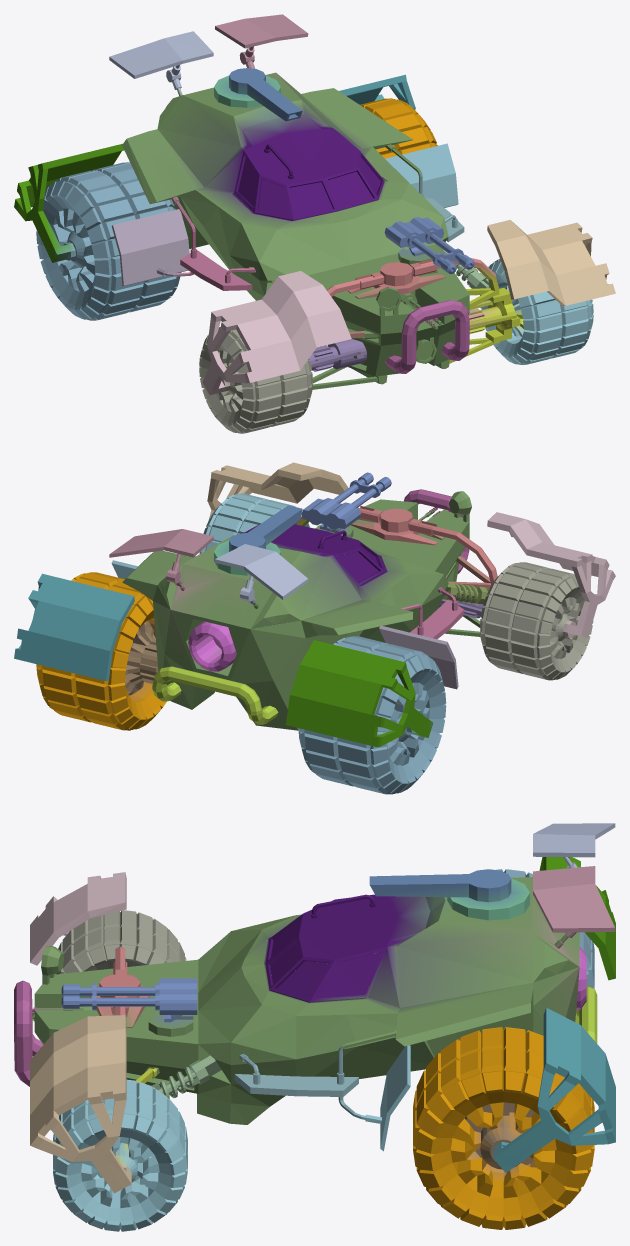
3 views of the same model, one above another, from view 1: azimuth 30°, elevation 25°; view 2: azimuth 150°, elevation 25°; view 3: azimuth 270°, elevation 25° (orthographic). The views are drawn at different scales.
Visible parts, largest first — view 1: world; view 2: world; view 3: world.
Boxes of the visible parts, x1,y1,x2,y2 form: world: (14, 14, 615, 433); world: (14, 462, 615, 794); world: (14, 823, 615, 1231).
Bounding box in the file's own units: 0.6024 × 0.3353 × 0.6713.
